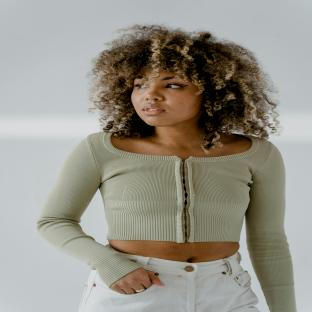Human: (38, 26, 296, 312)
